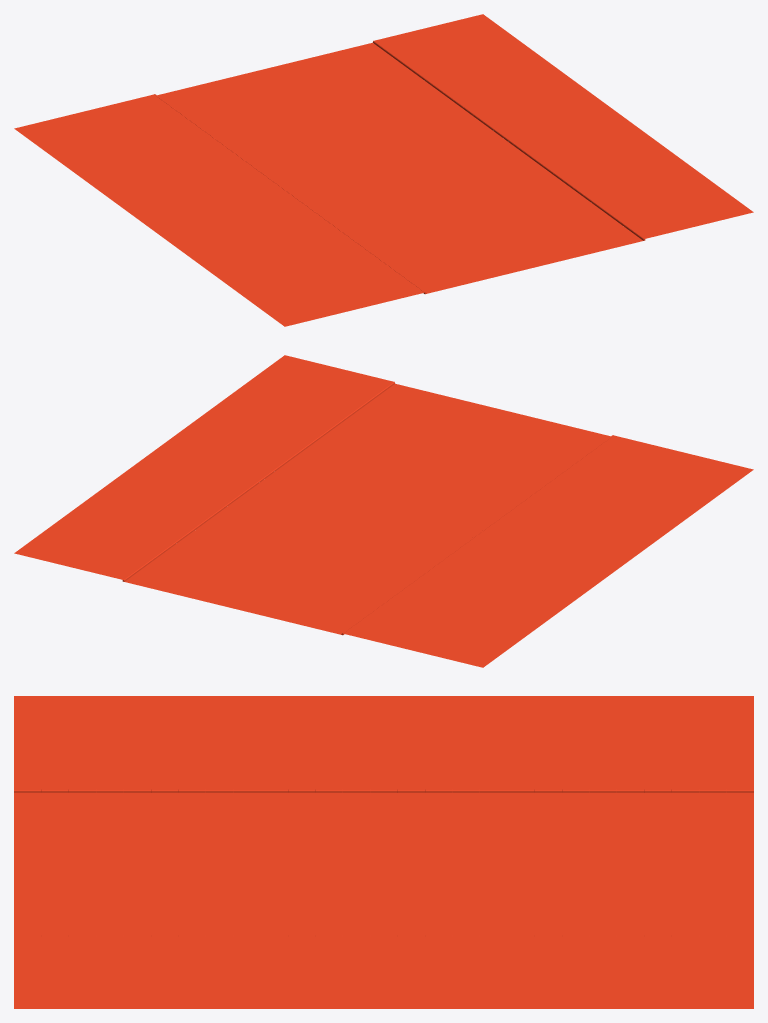
File: SM_Mainroad_Stop_30x30_City.fbx
3 views of the same model, one above another, from view 1: azimuth 30°, elevation 25°; view 2: azimuth 150°, elevation 25°; view 3: azimuth 270°, elevation 25° (orthographic). The views are drawn at different scales.
Parts seen in each view (by area): view 1: SM_Mainroad_Stop_30x30_City; view 2: SM_Mainroad_Stop_30x30_City; view 3: SM_Mainroad_Stop_30x30_City.
Part boxes in pixels (x1,y1,x2,y2): SM_Mainroad_Stop_30x30_City: (14, 14, 753, 326); SM_Mainroad_Stop_30x30_City: (14, 355, 753, 667); SM_Mainroad_Stop_30x30_City: (14, 696, 753, 1008).
Size of the model in its own units: 30 by 0.1084 by 30.
